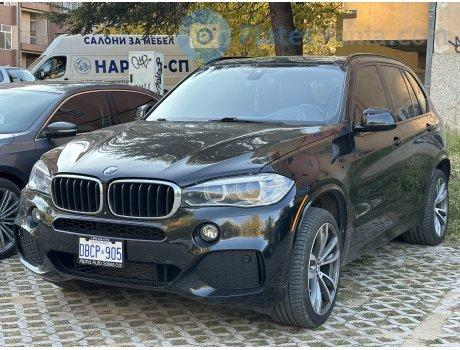licence: (74, 234, 129, 269)
